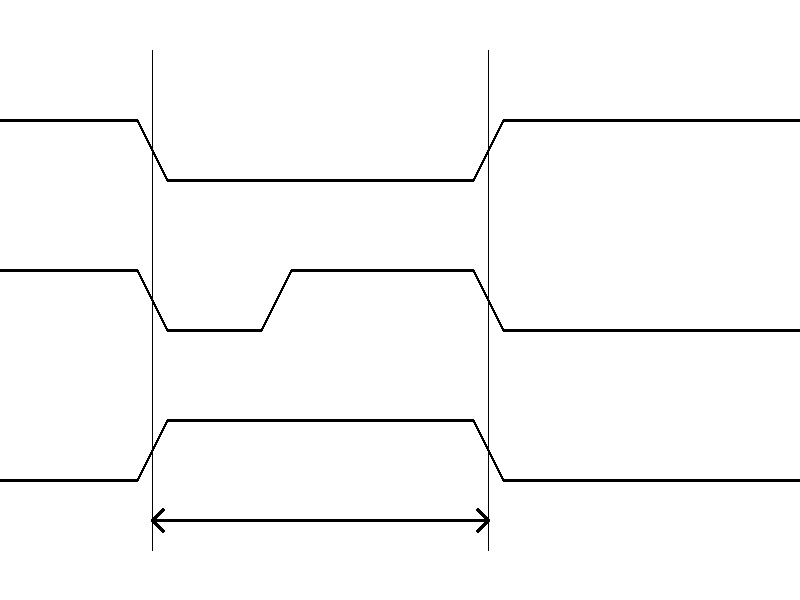double_arrow: (152, 505, 488, 535)
